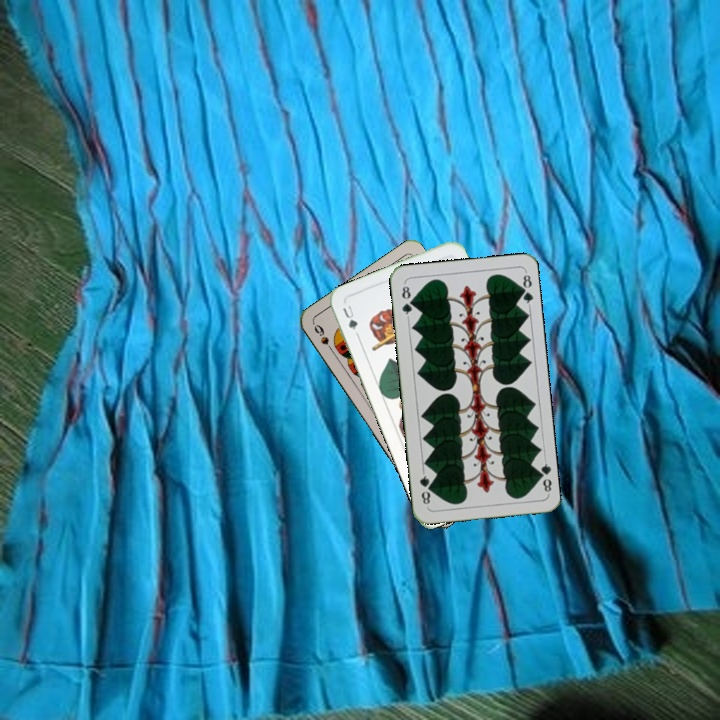G8: (533, 456, 554, 496), (398, 280, 415, 320)
GU: (338, 301, 360, 333)
S9: (310, 320, 338, 357)
